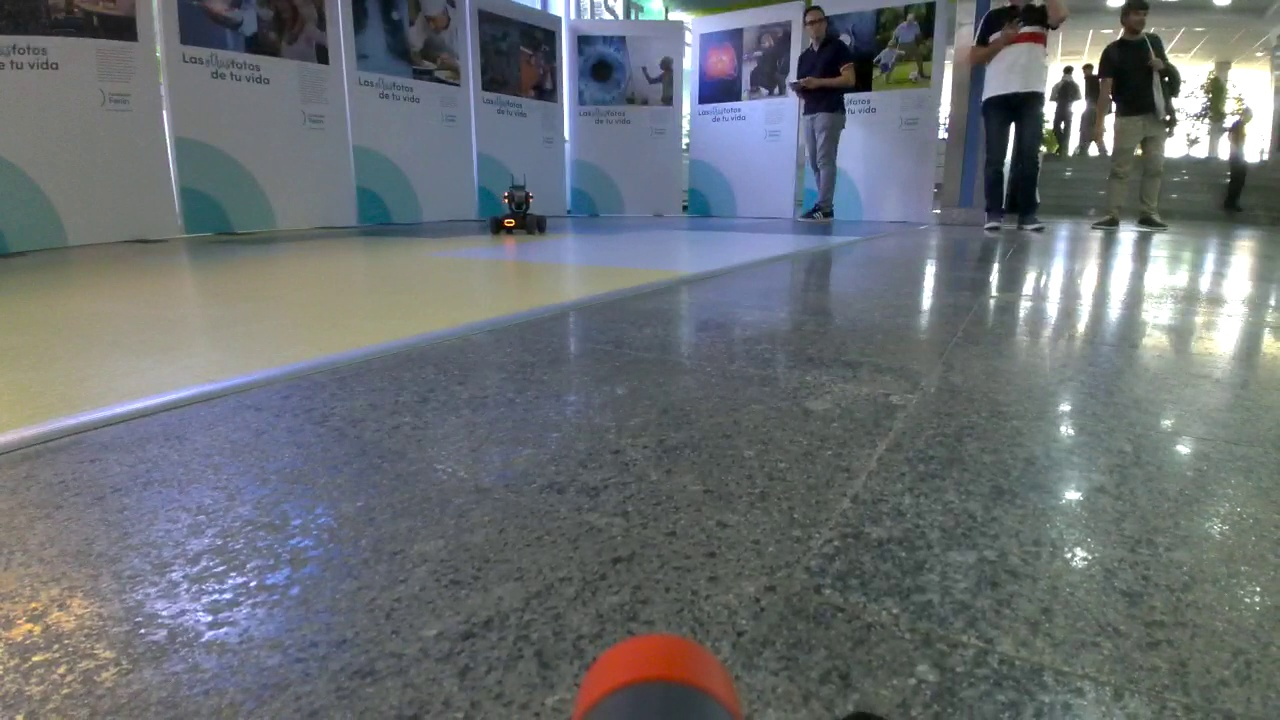robot: (488, 173, 547, 237)
